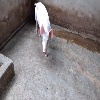heo: (33, 4, 57, 57)
